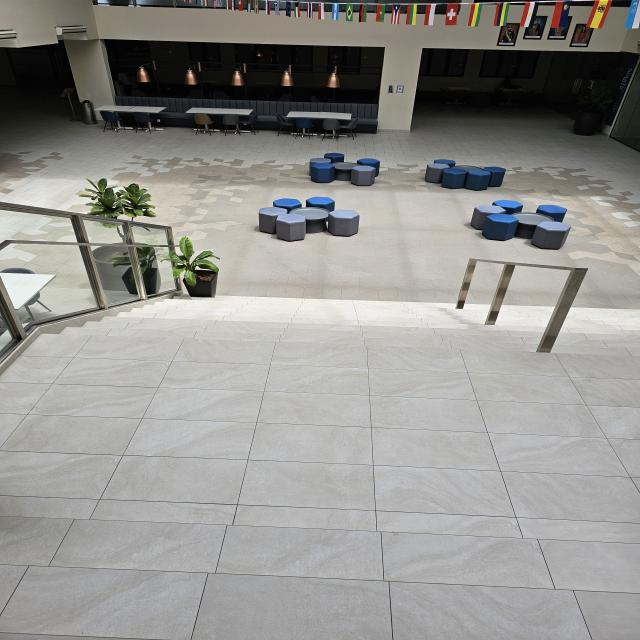footpath: (0, 351, 628, 640)
obstacle: (455, 254, 592, 353), (249, 190, 366, 243), (471, 194, 574, 252), (413, 152, 513, 190), (298, 149, 392, 188), (168, 246, 228, 301)
